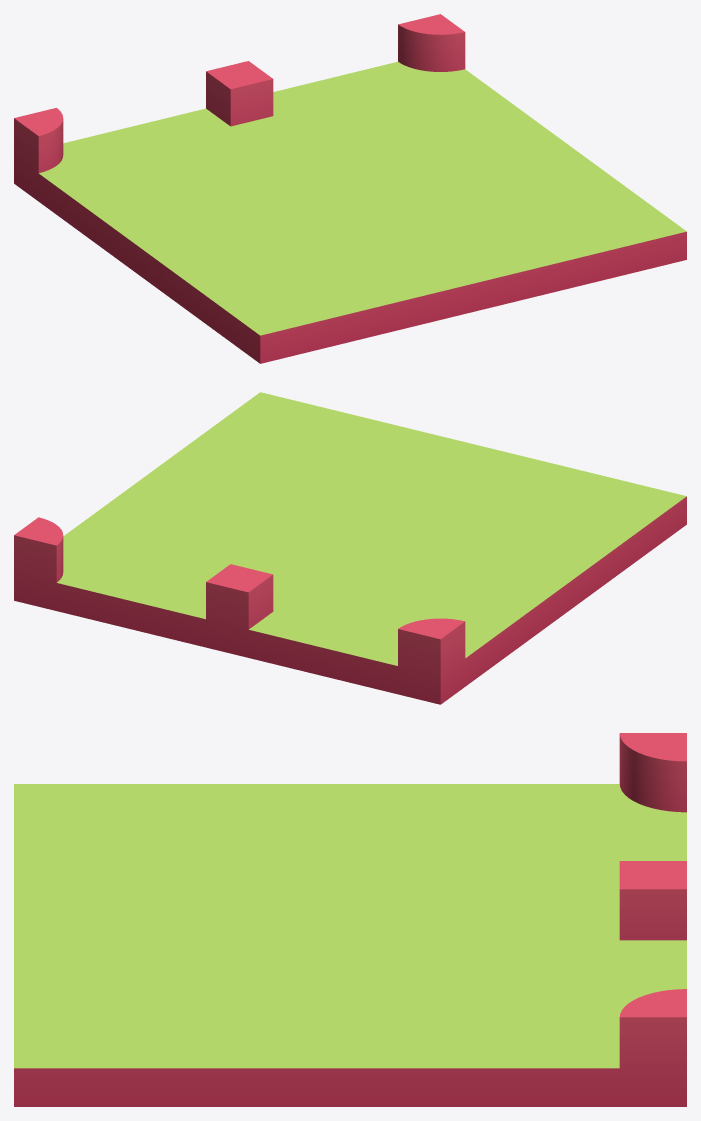
File: split-walls-to-open.gltf
3 renders of one model, top to bottom at view 1: azimuth 30°, elevation 25°; view 2: azimuth 150°, elevation 25°; view 3: azimuth 270°, elevation 25°, orthographic. The views are drawn at different scales.
Visible parts, largest first — view 1: split-walls-to-open; view 2: split-walls-to-open; view 3: split-walls-to-open.
Part boxes in pixels (x1=…): split-walls-to-open: x1=14, y1=14, x2=686, y2=363; split-walls-to-open: x1=14, y1=392, x2=686, y2=704; split-walls-to-open: x1=14, y1=733, x2=686, y2=1106.
Bounding box in the file's own units: 0.9999 × 0.1467 × 0.9999.
1 material, 1 textured.
